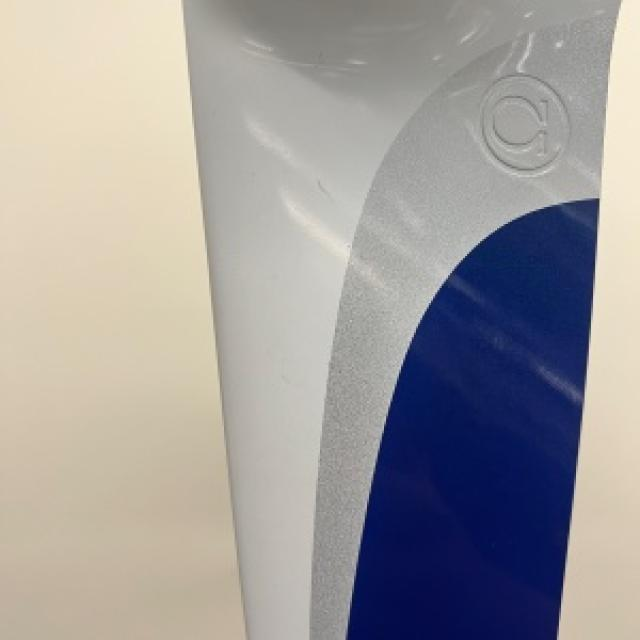healthy: (183, 0, 614, 638)
